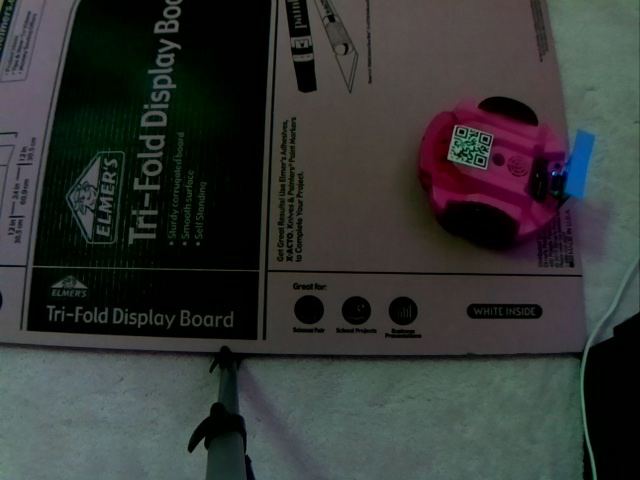chassis: (411, 94, 598, 246)
qr: (442, 124, 494, 171)
